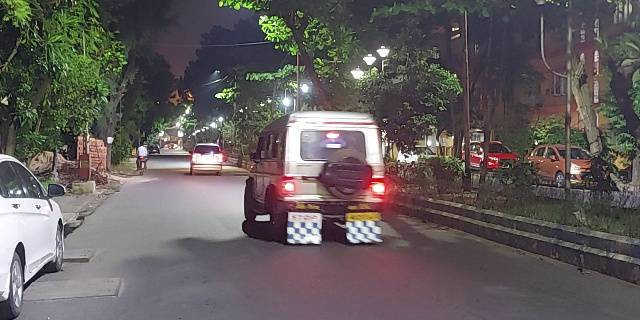Car: (243, 111, 385, 241), (188, 140, 224, 181)
